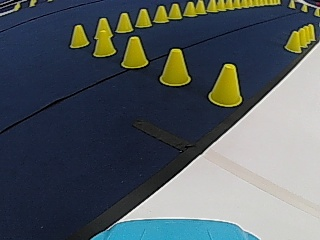cone: (209, 63, 243, 107), (159, 48, 191, 86), (121, 35, 149, 68), (93, 17, 116, 56), (69, 23, 89, 48), (285, 30, 302, 52), (116, 12, 133, 33), (135, 8, 152, 28), (153, 5, 168, 23), (168, 3, 182, 20), (183, 1, 197, 17), (298, 27, 309, 46), (302, 25, 312, 43), (195, 0, 206, 14), (207, 0, 218, 12), (307, 24, 315, 40), (217, 0, 226, 11), (226, 0, 233, 10), (234, 0, 240, 8)
